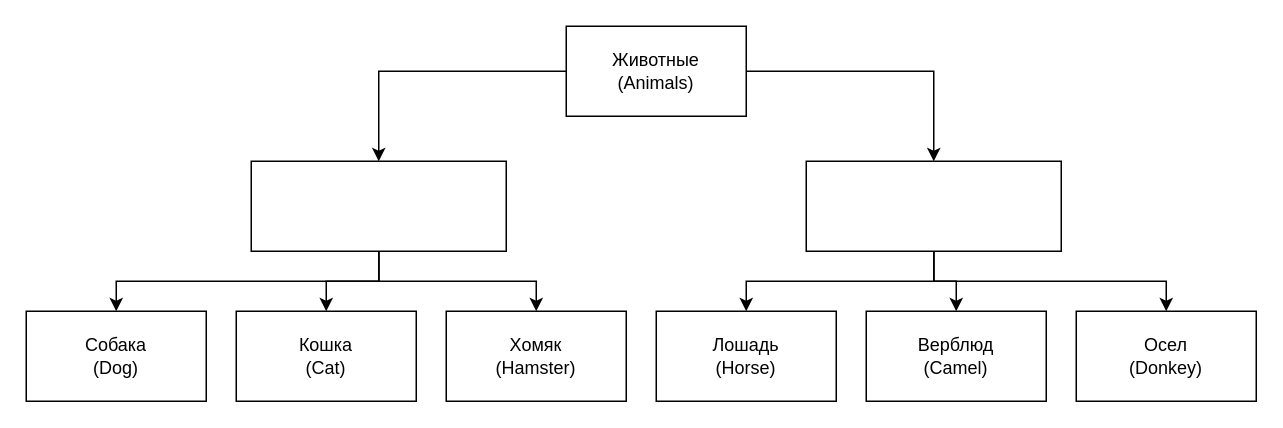
Image size: 1283x428. Some labels were removed from this diagram. Here are the shapes that lost their labels. From the top down, the box of each, then its label:
(250, 160, 506, 251): домашние животные (Pets)
(805, 160, 1061, 251): вьючные животные (Pack)
